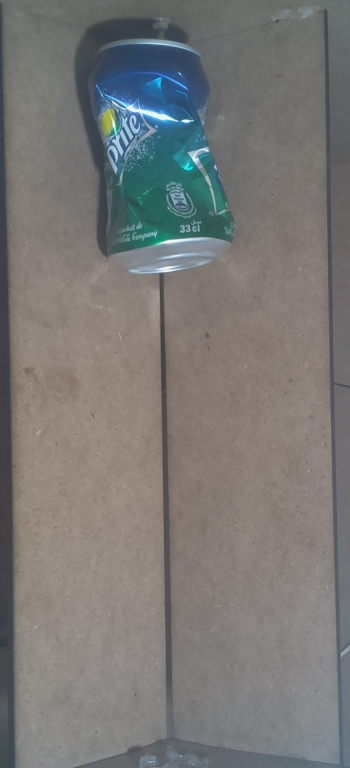Canette: (74, 26, 245, 284)
